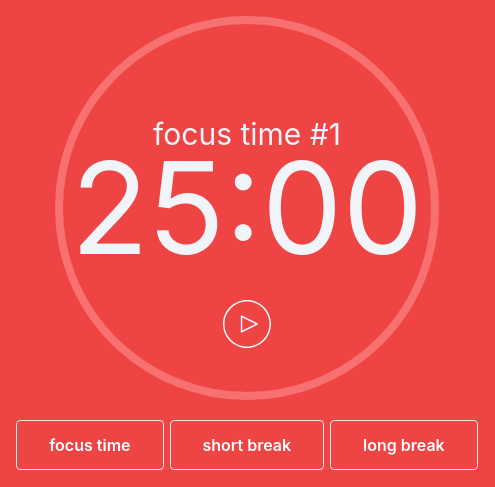
Navigation › should sitch to "short break" timer if "focus time" timer has ended
The image size is (495, 487).
Check: the text "25:00" is shown, box [71,144,423,272]
Click the button named "Play timer" at (247, 324), box [223,300,271,348]
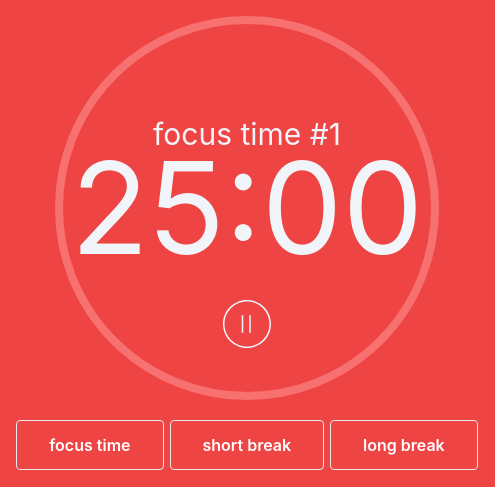
Wait "1560000"
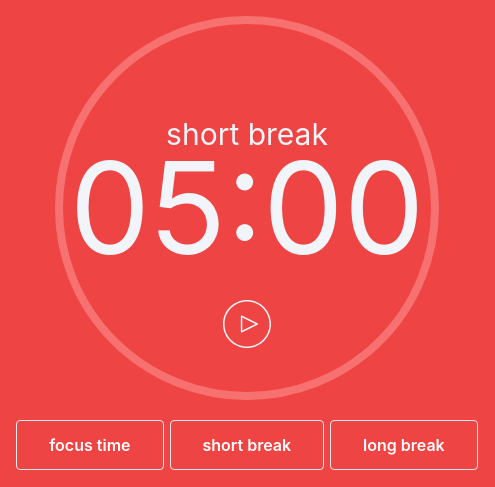
Check: the text with test id "timer-text" reads "short break", box [166,116,328,152]
Check: the text "05:00" is shown, box [70,144,425,272]
